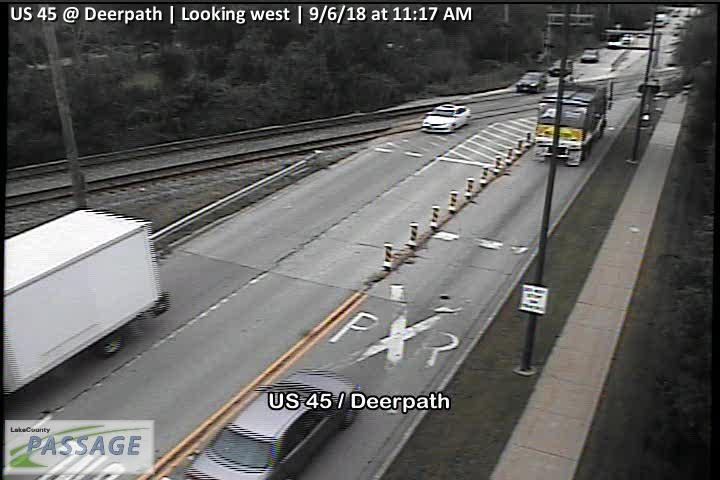SUV: (620, 33, 637, 47)
Sedan: (179, 368, 364, 480), (419, 101, 472, 135), (516, 69, 547, 94), (547, 57, 572, 76), (579, 49, 598, 61)
Truck: (2, 206, 171, 396), (530, 79, 616, 168)
